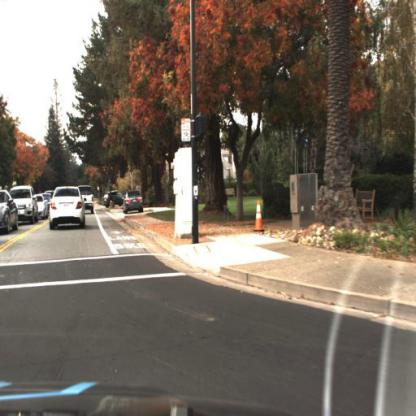car: (49, 185, 85, 233), (51, 187, 85, 233), (6, 185, 40, 227), (1, 189, 21, 237), (1, 188, 20, 233), (121, 190, 145, 217), (78, 184, 96, 218), (103, 188, 125, 210), (81, 187, 97, 216), (38, 195, 50, 222)
